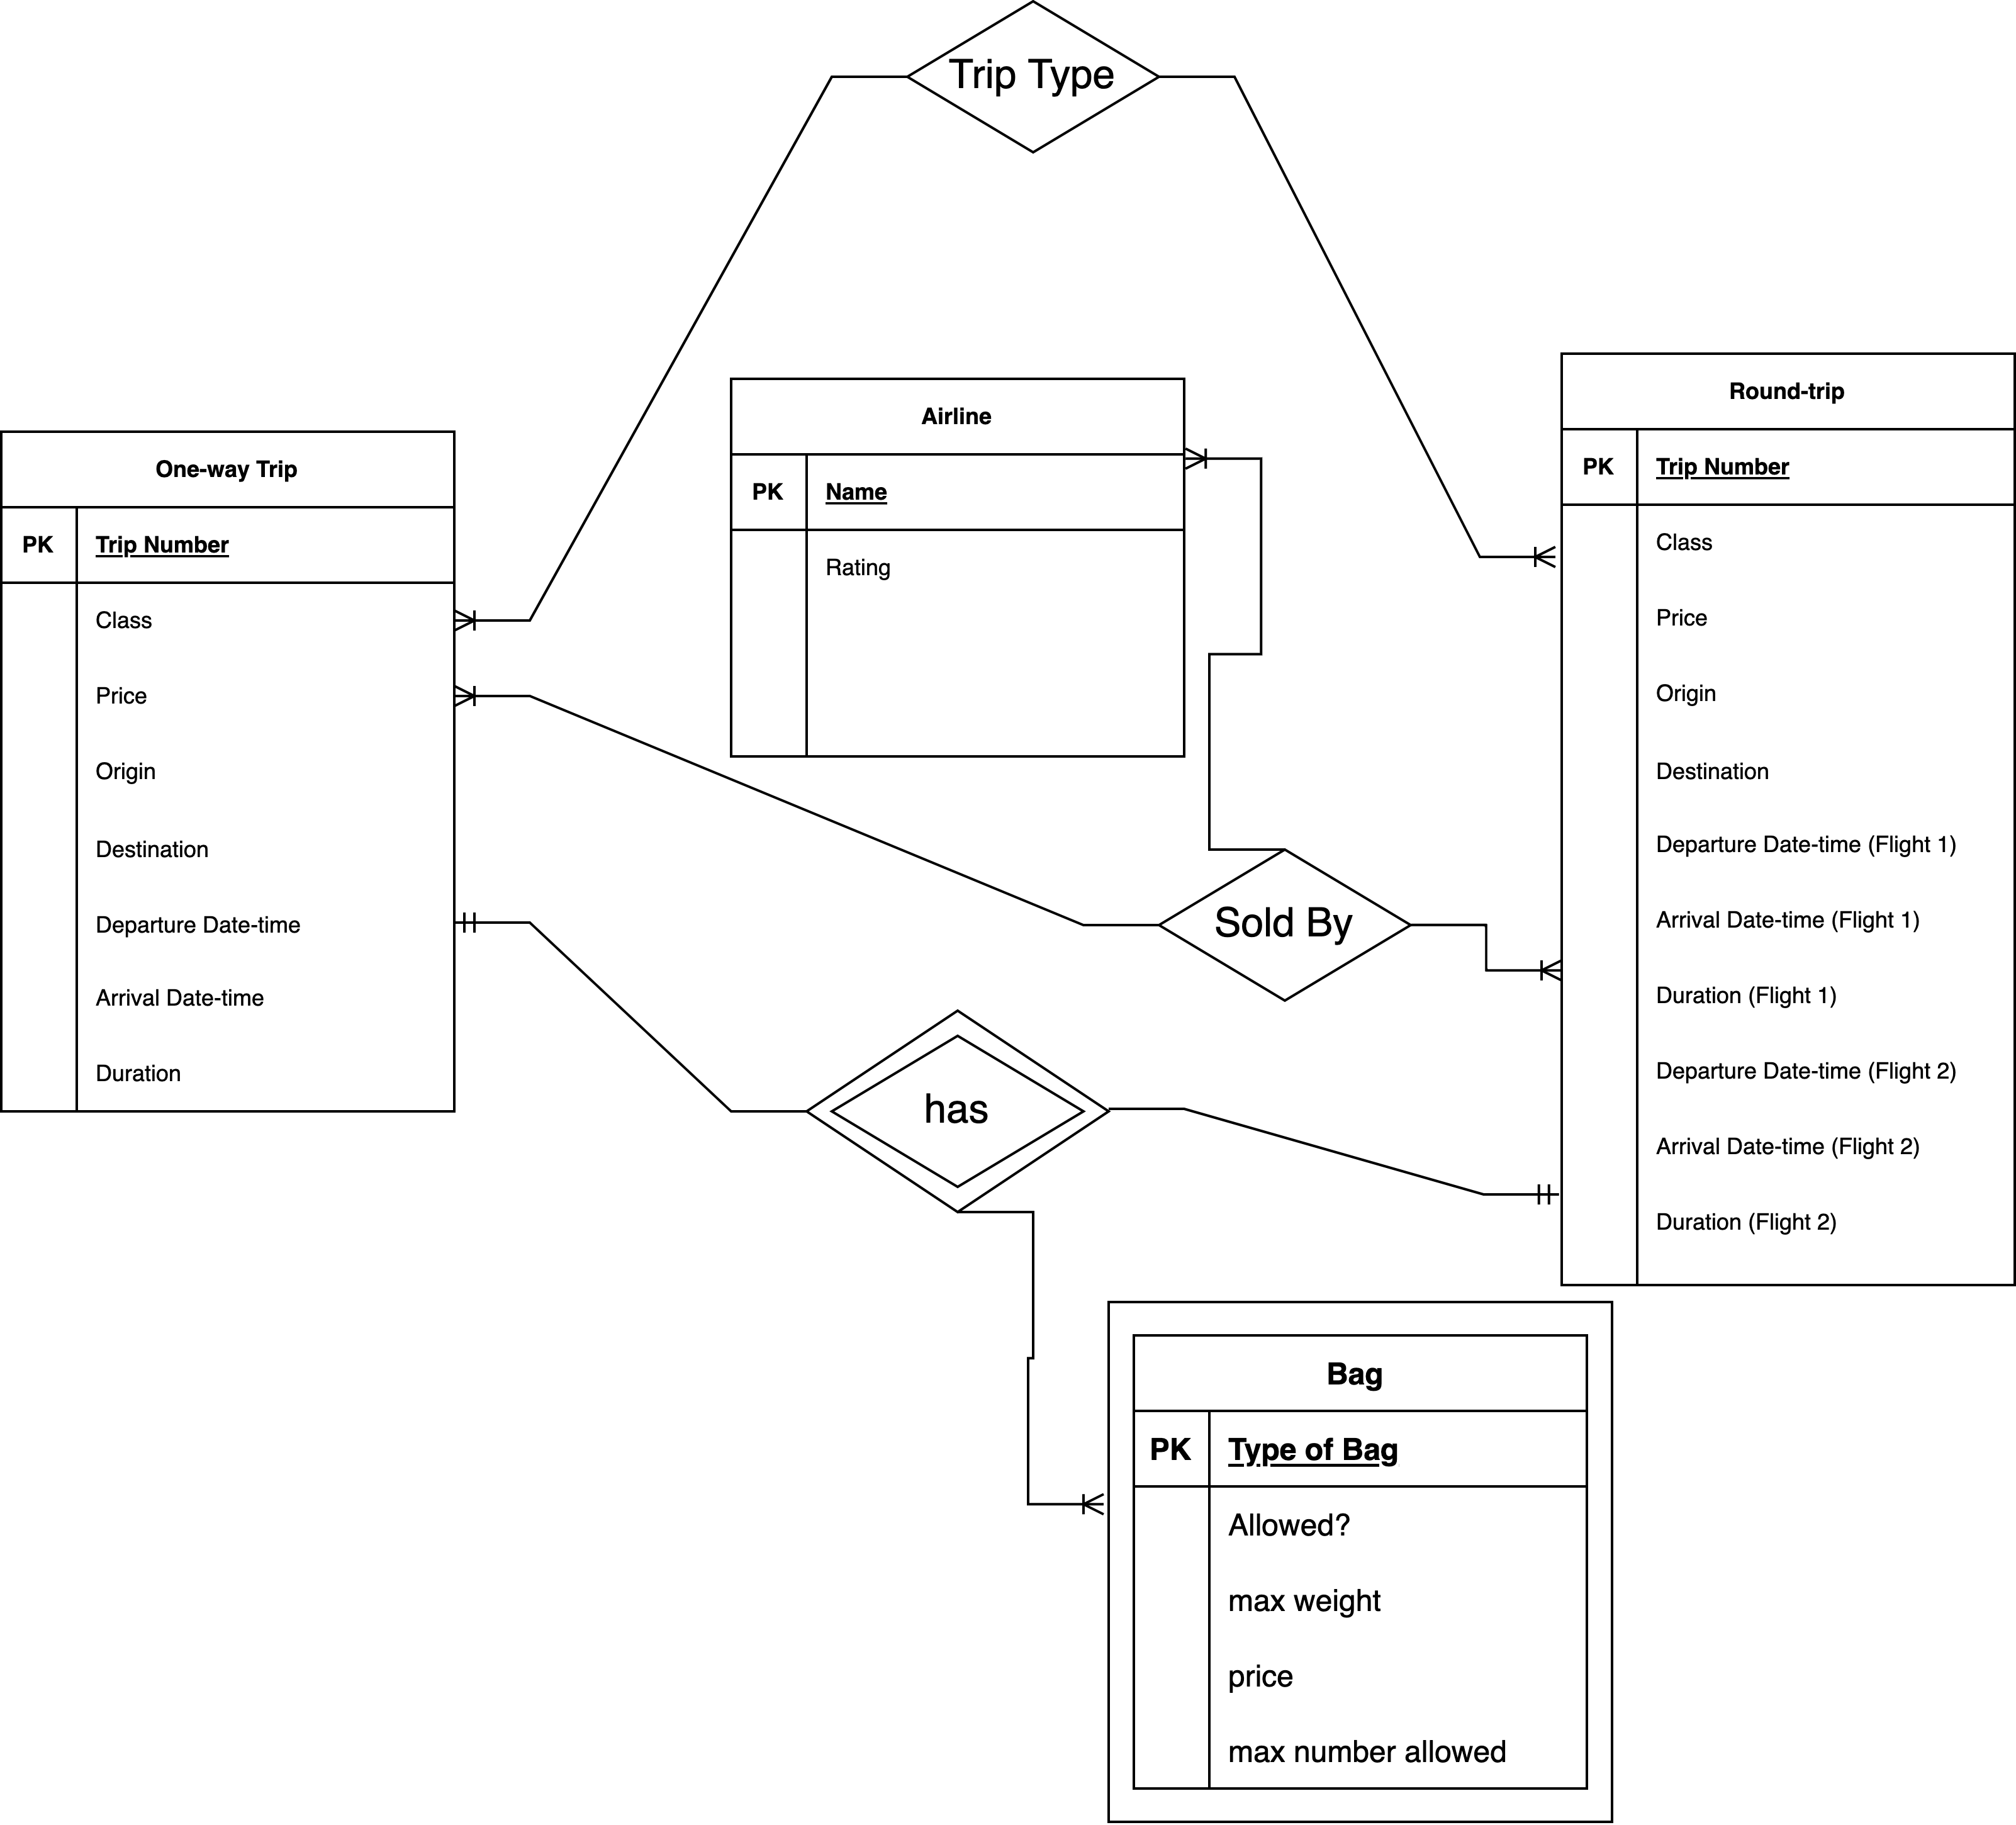entity: (1561, 351, 2016, 1284), (0, 427, 455, 1108), (732, 376, 1191, 761)
ident_rel: (810, 1010, 1113, 1212)
many: (1027, 1490, 1105, 1523), (1486, 957, 1565, 989), (1185, 444, 1263, 474), (453, 610, 534, 638), (1480, 546, 1559, 574), (455, 683, 532, 708)
one: (455, 912, 532, 933), (1484, 1184, 1559, 1205)
rel: (904, 0, 1154, 155), (1164, 850, 1412, 999)
weak_entity: (1110, 1300, 1616, 1825)
